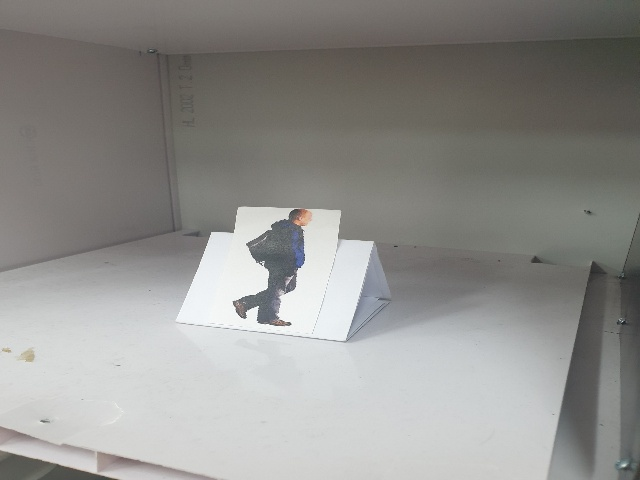Person: (232, 206, 312, 334)
